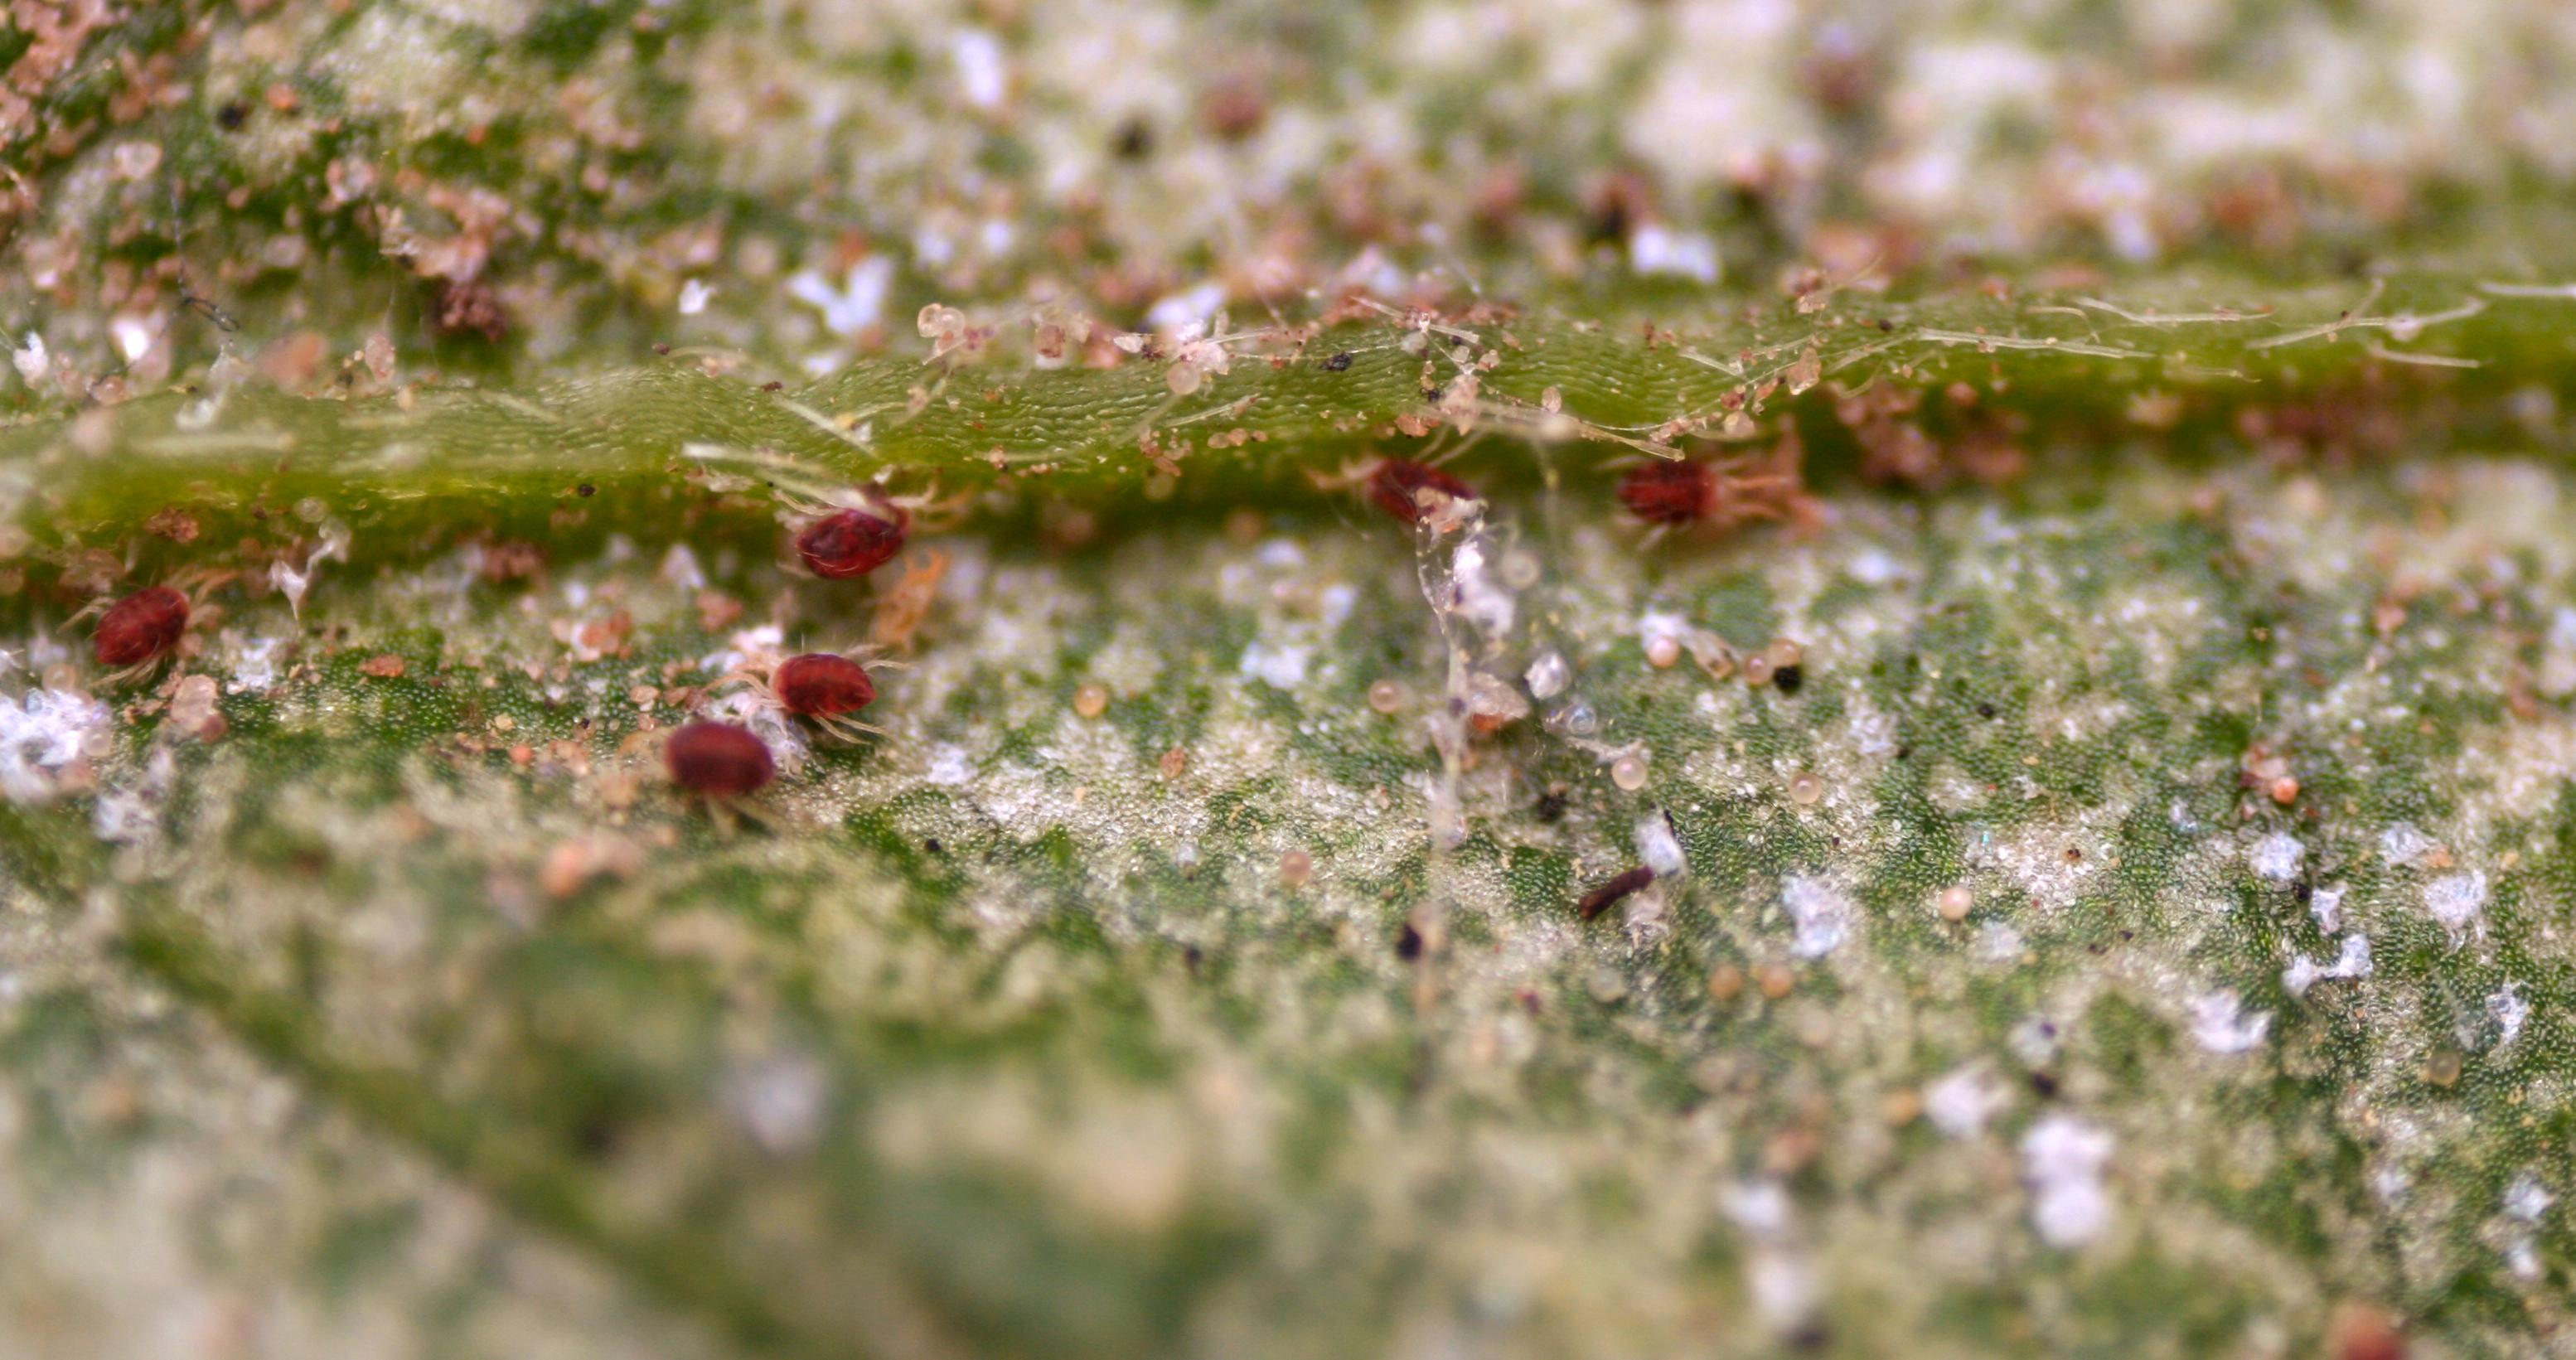Mites: (756, 628, 947, 754), (85, 571, 230, 695)
